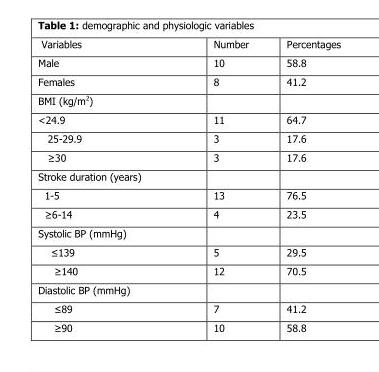table: (37, 37, 340, 333)
table column: (37, 37, 176, 333), (176, 37, 267, 333), (267, 37, 340, 333)
table column header: (37, 37, 340, 52)
table projected row header: (37, 90, 340, 109), (37, 166, 340, 185), (37, 222, 340, 241), (37, 279, 340, 298)
table row: (37, 52, 340, 71), (37, 71, 340, 90), (37, 90, 340, 109), (37, 109, 340, 128), (37, 128, 340, 147), (37, 147, 340, 166), (37, 166, 340, 185), (37, 185, 340, 204), (37, 222, 340, 241), (37, 241, 340, 260), (37, 260, 340, 279), (37, 279, 340, 298), (37, 298, 340, 317), (37, 204, 340, 222), (37, 317, 340, 333), (37, 37, 340, 52)
